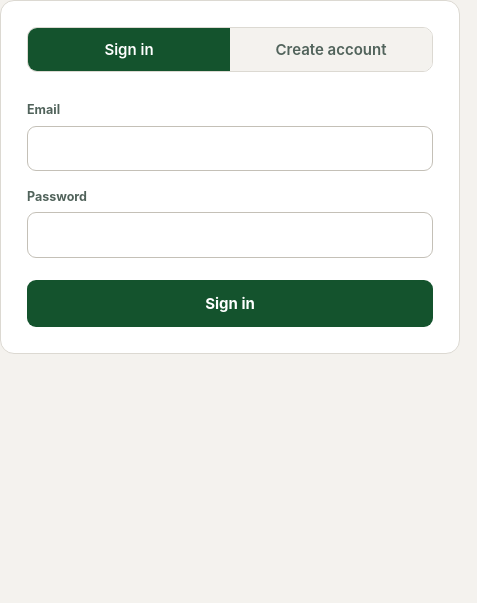
Test: login form › names the offending field when the API returns validation details
The width and height of the screenshot is (477, 603).
Click the tab "Create account" at x=331, y=50, box [230, 28, 432, 71]
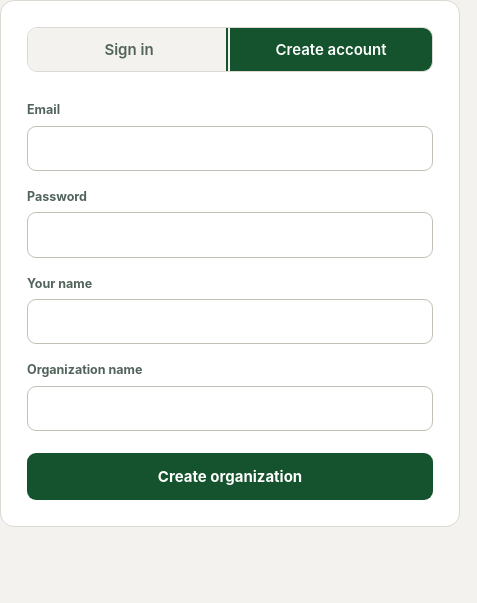
Type "ada@corp.test" into the field labelled "Email" at x=230, y=148, box [27, 126, 433, 171]
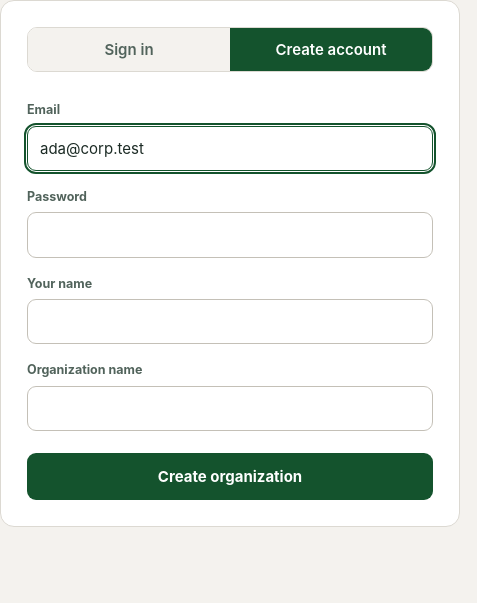
Type "strong-pass-123" into the password field labelled "Password" at x=230, y=235, box [27, 212, 433, 258]
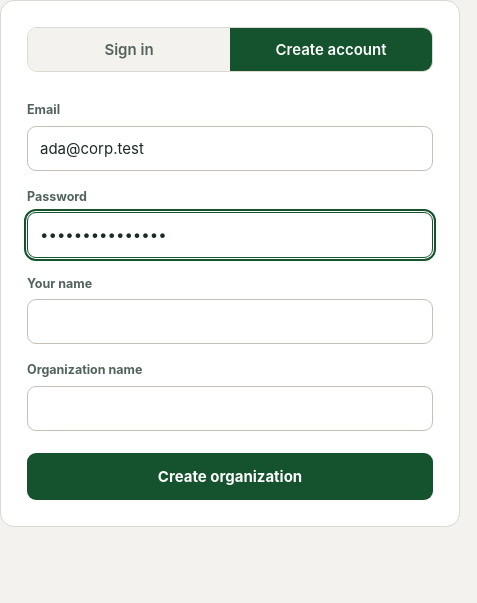
Type "Ada" into the field labelled "Your name" at x=230, y=322, box [27, 299, 433, 344]
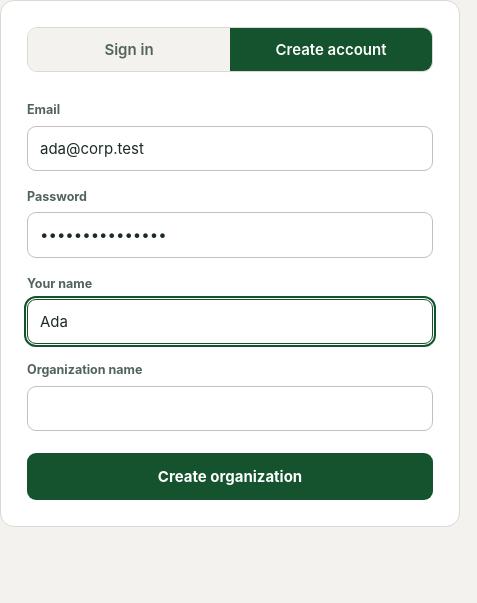
Type "Corp" into the field labelled "Organization name" at x=230, y=408, box [27, 386, 433, 431]
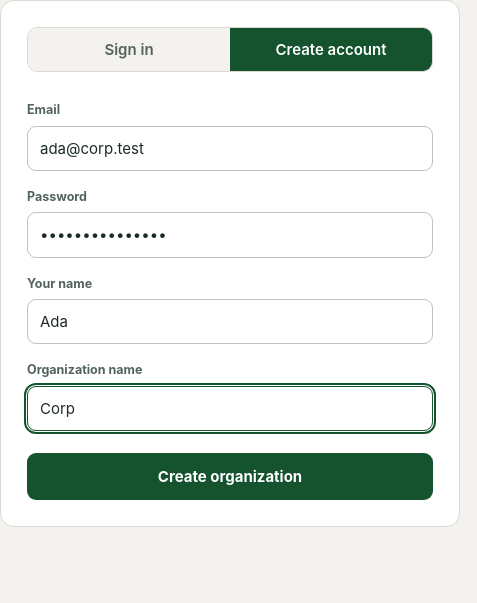
Click the button "Create organization" at x=230, y=476, box [27, 453, 433, 500]
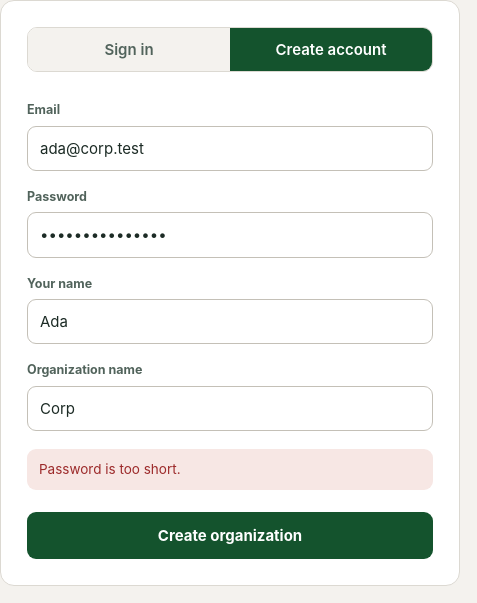
Expected: the message reads "Password is too short.", [39, 461, 180, 477]
